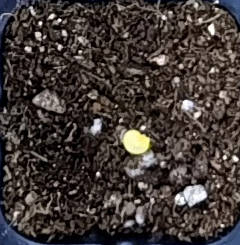pepper seed: (46, 51, 198, 207)
